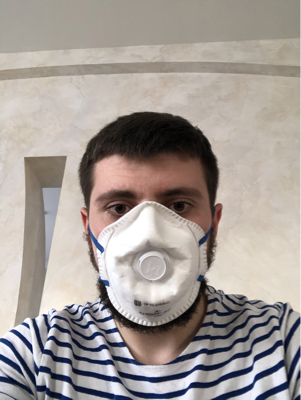with_mask: (89, 177, 212, 333)
